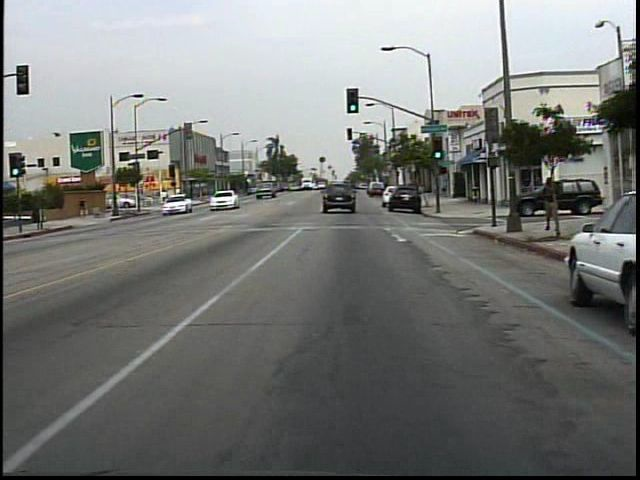person: (539, 170, 563, 239), (77, 191, 96, 219), (159, 188, 169, 204)
